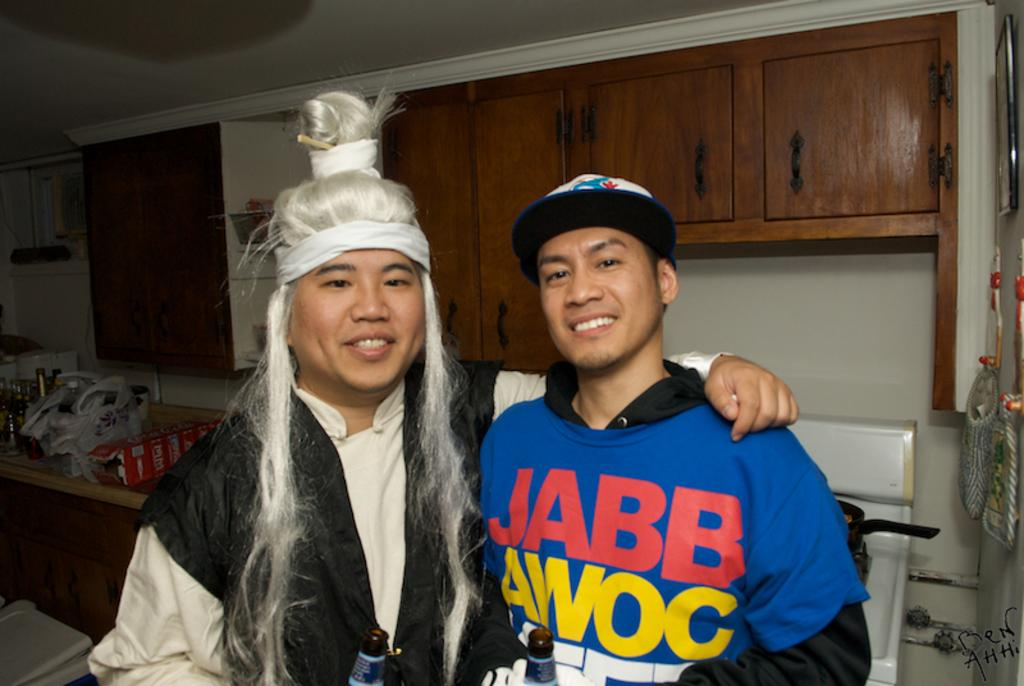Hat: (512, 167, 676, 290)
